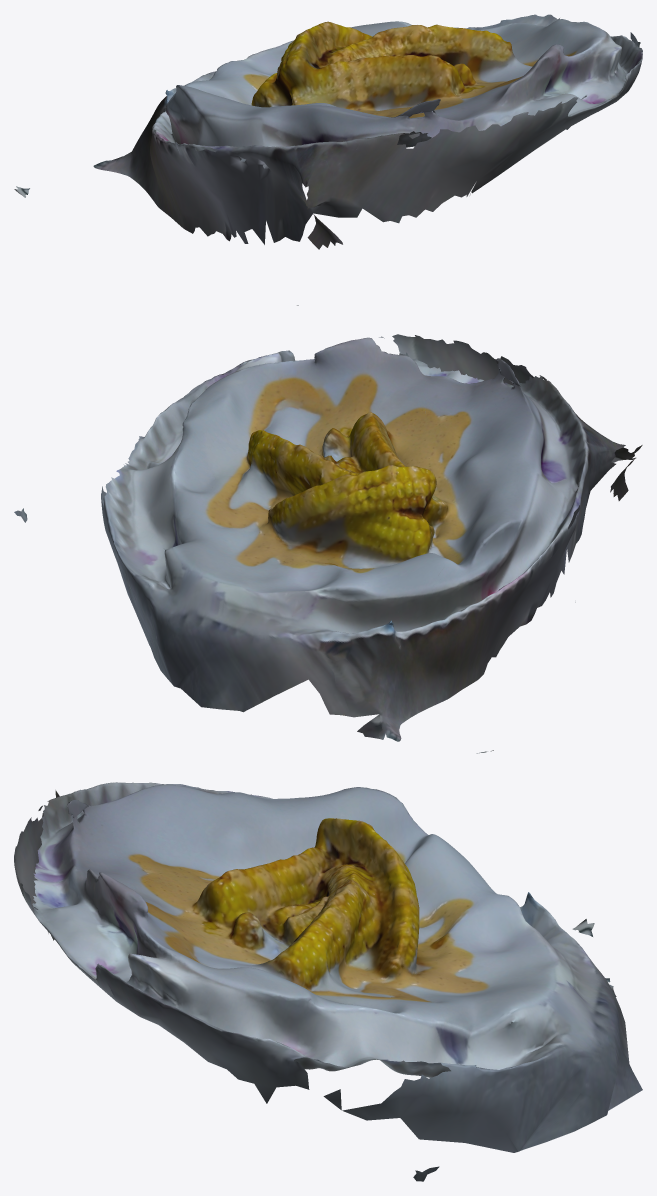
File: costillitas.glb
The picture shows the model from 3 angles, top to bottom: view 1: azimuth 30°, elevation 25°; view 2: azimuth 150°, elevation 25°; view 3: azimuth 270°, elevation 25°; orthographic projection. The views are drawn at different scales.
Visible parts, largest first — view 1: 3DModel; view 2: 3DModel; view 3: 3DModel.
Part boxes in pixels (x1,y1,x2,y2): 3DModel: (14,14,642,305); 3DModel: (14,334,642,753); 3DModel: (14,782,642,1181).
Bounding box in the file's own units: 1.29 × 0.4564 × 1.05.
1 material, 1 textured.
